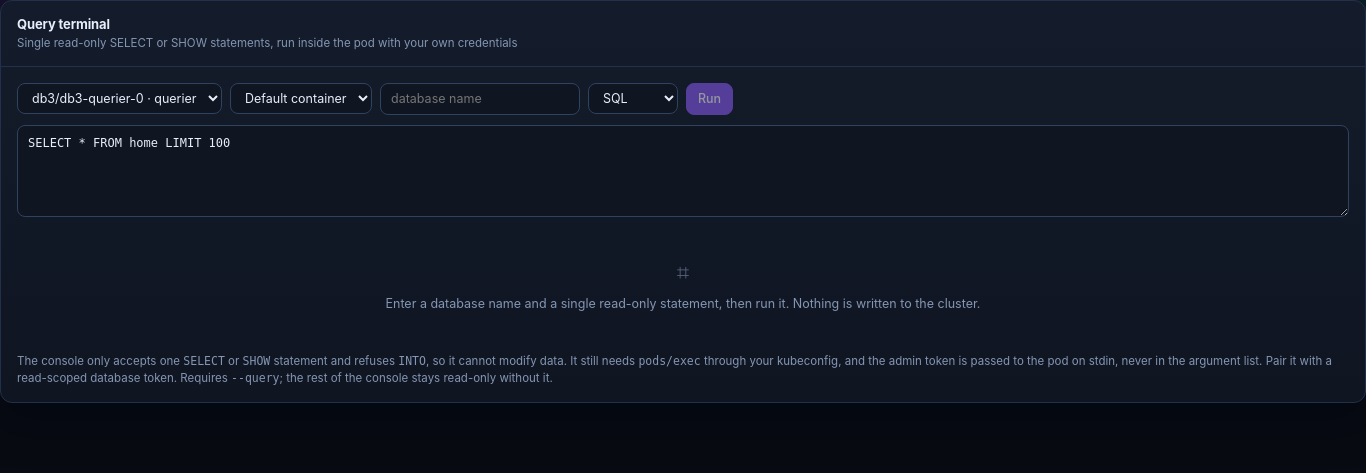
shows the server rejection instead of pretending the query ran
The width and height of the screenshot is (1366, 473).
Type "mydb" into the field labelled "database name". click: x=480, y=99
box: [380,82,580,115]
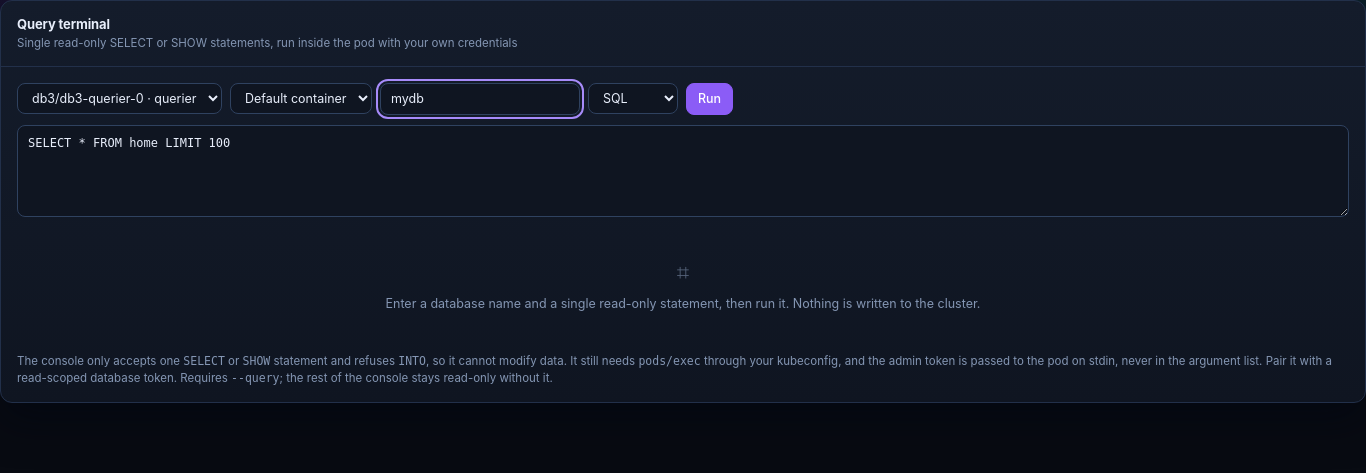
Click the button "Run". click: x=710, y=99
box: [686,82,733,115]
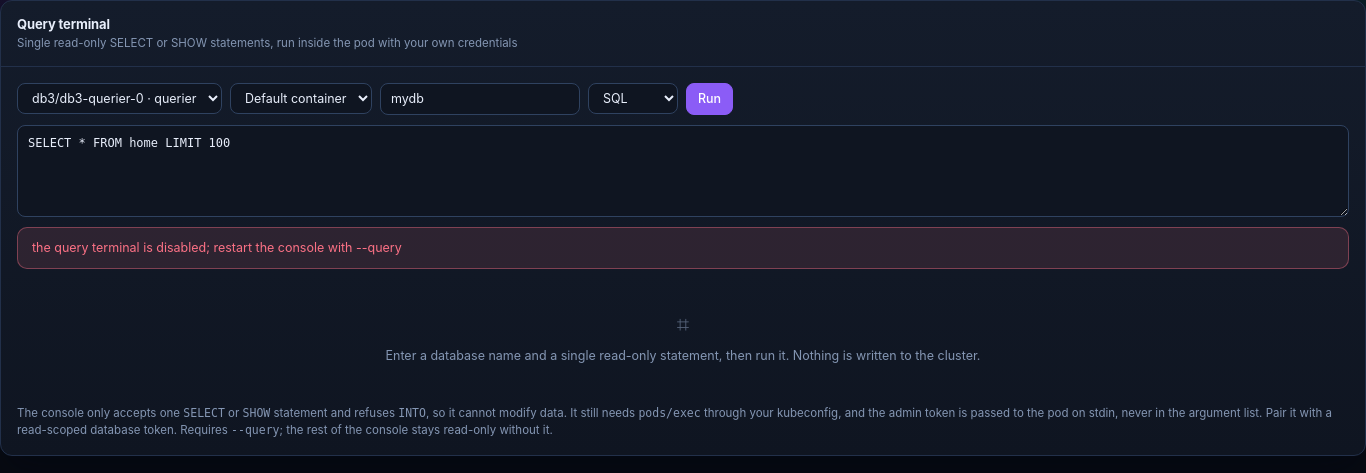
Expected: the text "query terminal is disabled" is shown, [32,240,402,255]
